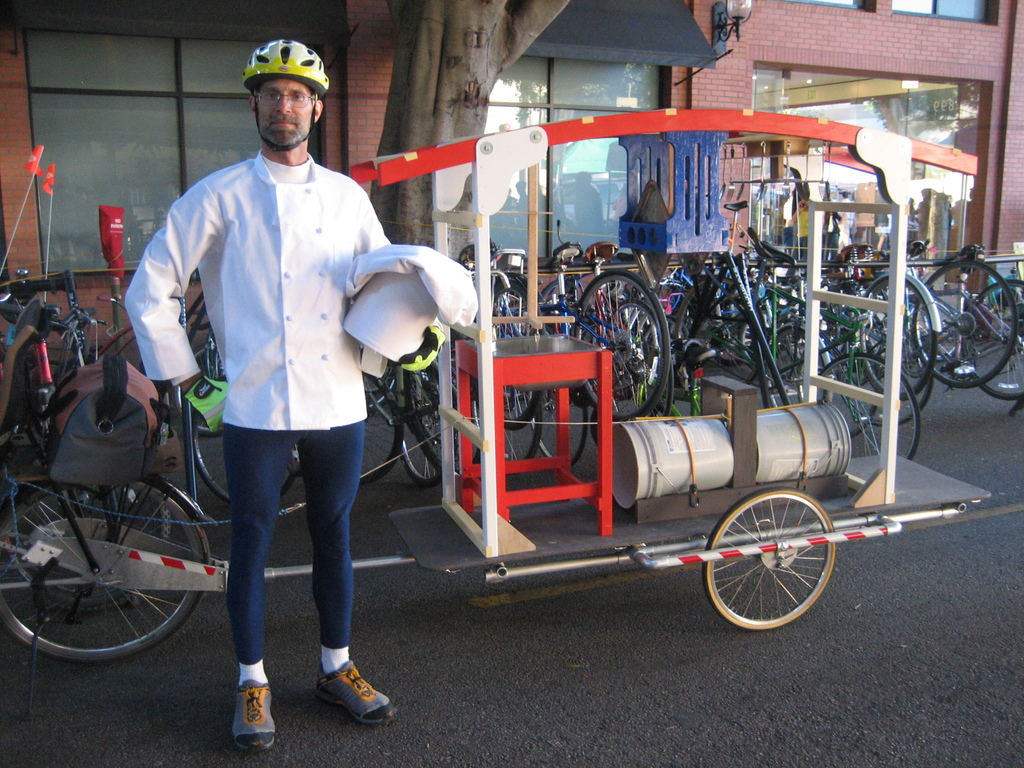Bicycle: (0, 259, 230, 641), (688, 232, 917, 472), (148, 288, 308, 494), (528, 255, 676, 427), (652, 224, 794, 393), (456, 245, 562, 469), (845, 234, 947, 423), (881, 255, 1012, 402), (517, 314, 618, 478), (304, 355, 405, 475), (784, 250, 872, 372), (403, 339, 462, 478), (954, 278, 1023, 396)
